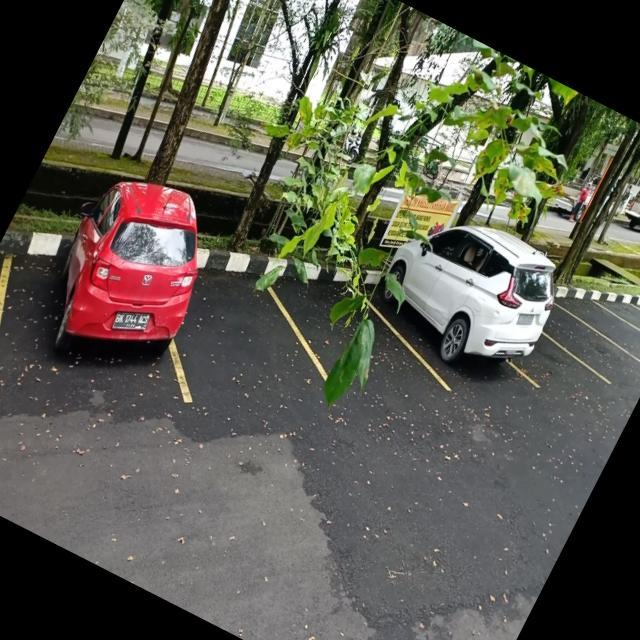empty: (147, 257, 328, 445), (538, 304, 640, 383), (573, 297, 640, 362)
occupied: (0, 201, 208, 418), (351, 229, 555, 413)
